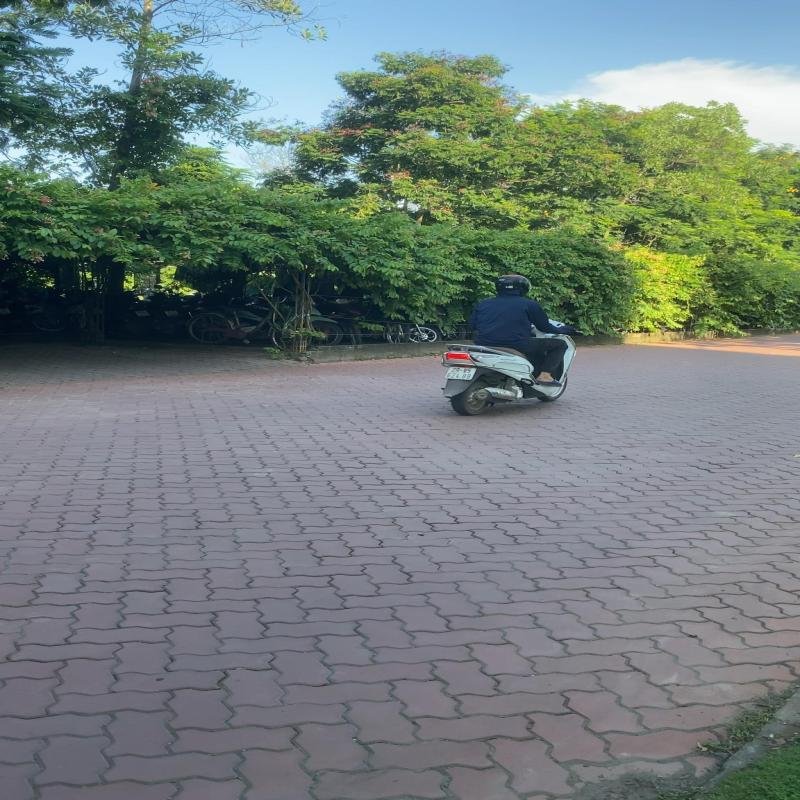helmet: (496, 275, 535, 296)
licenseplate: (445, 366, 477, 381)
motorcyclist: (432, 274, 586, 416)
